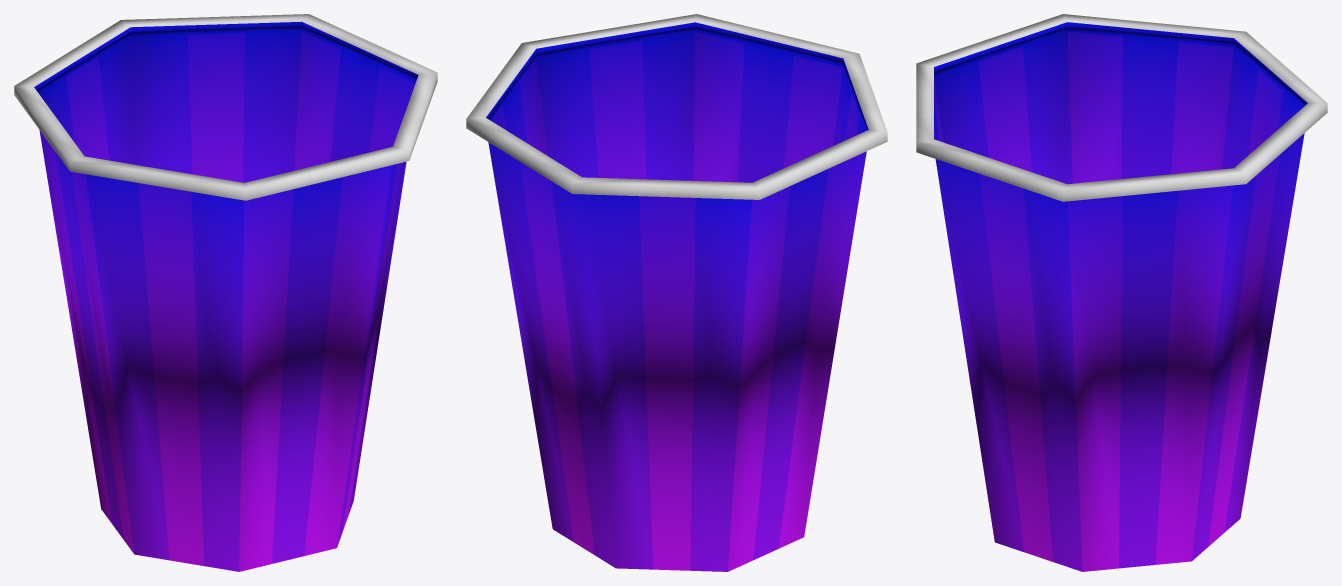
Rendered from cup purple.fbx.
The picture shows the model from 3 angles, left to right: view 1: azimuth 30°, elevation 25°; view 2: azimuth 150°, elevation 25°; view 3: azimuth 270°, elevation 25°; orthographic projection.
Parts seen in each view (by area): view 1: Circle.027; view 2: Circle.027; view 3: Circle.027.
Boxes of the visible parts, x1,y1,x2,y2 form: Circle.027: (14,14,437,571); Circle.027: (466,14,887,571); Circle.027: (916,14,1327,571).
Size of the model in its own units: 16.11 by 17.49 by 15.7.
